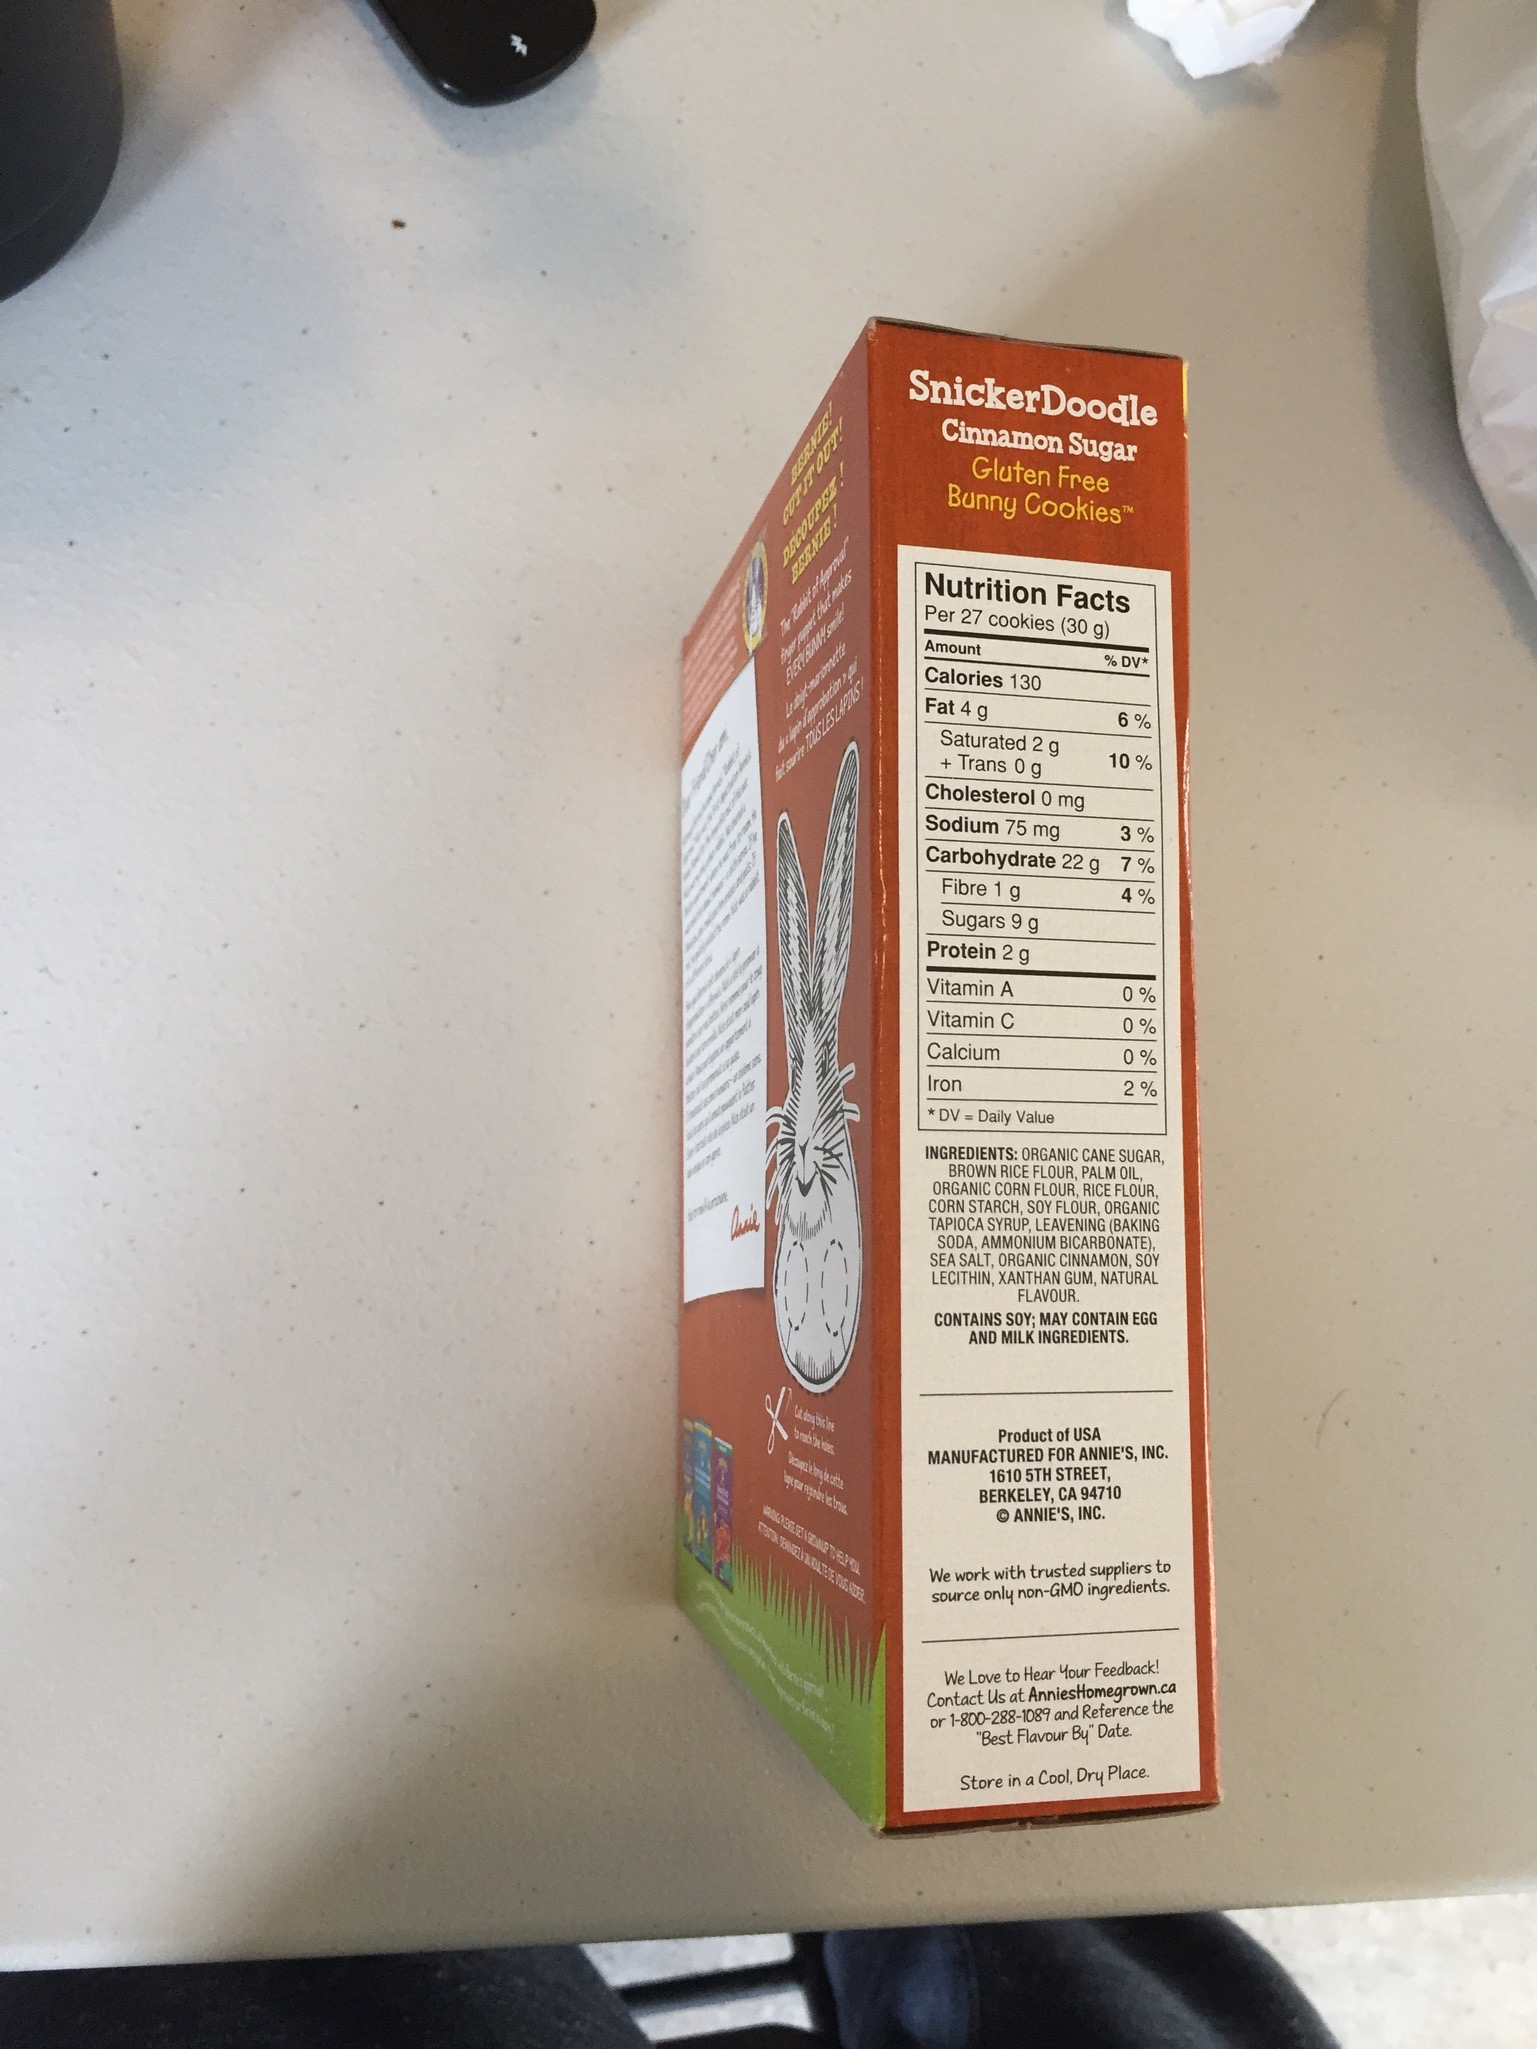annies_snickerdoodles_cinnamon_sugar: (852, 373, 1200, 1804)
